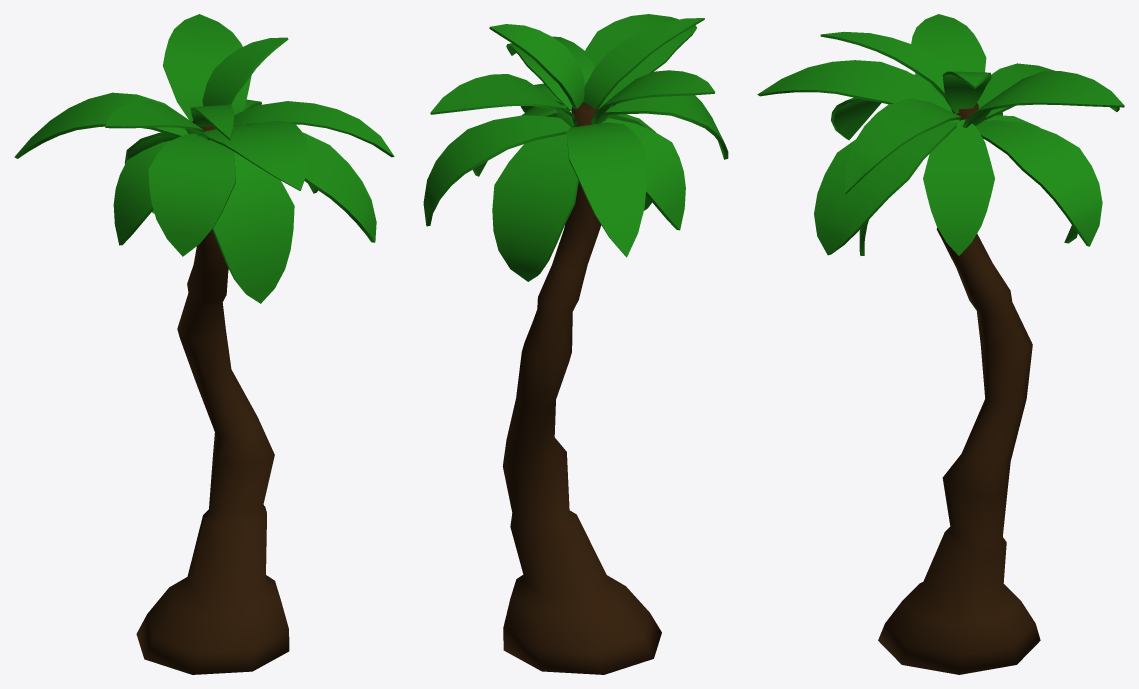
Rendered from Farm_Fighter_PalmTree1_model.FBX.
3 views of the same model, side by side, from view 1: azimuth 30°, elevation 25°; view 2: azimuth 150°, elevation 25°; view 3: azimuth 270°, elevation 25° (orthographic). The views are drawn at different scales.
Parts seen in each view (by area): view 1: PalmTreeLeaf_014; view 2: PalmTreeLeaf_014; view 3: PalmTreeLeaf_014.
Boxes of the visible parts, box(x1,y1,x2,y2) form: PalmTreeLeaf_014: box(14, 14, 394, 674); PalmTreeLeaf_014: box(423, 14, 728, 674); PalmTreeLeaf_014: box(757, 14, 1124, 674).
Bounding box in the file's own units: 222 × 500 × 279.
